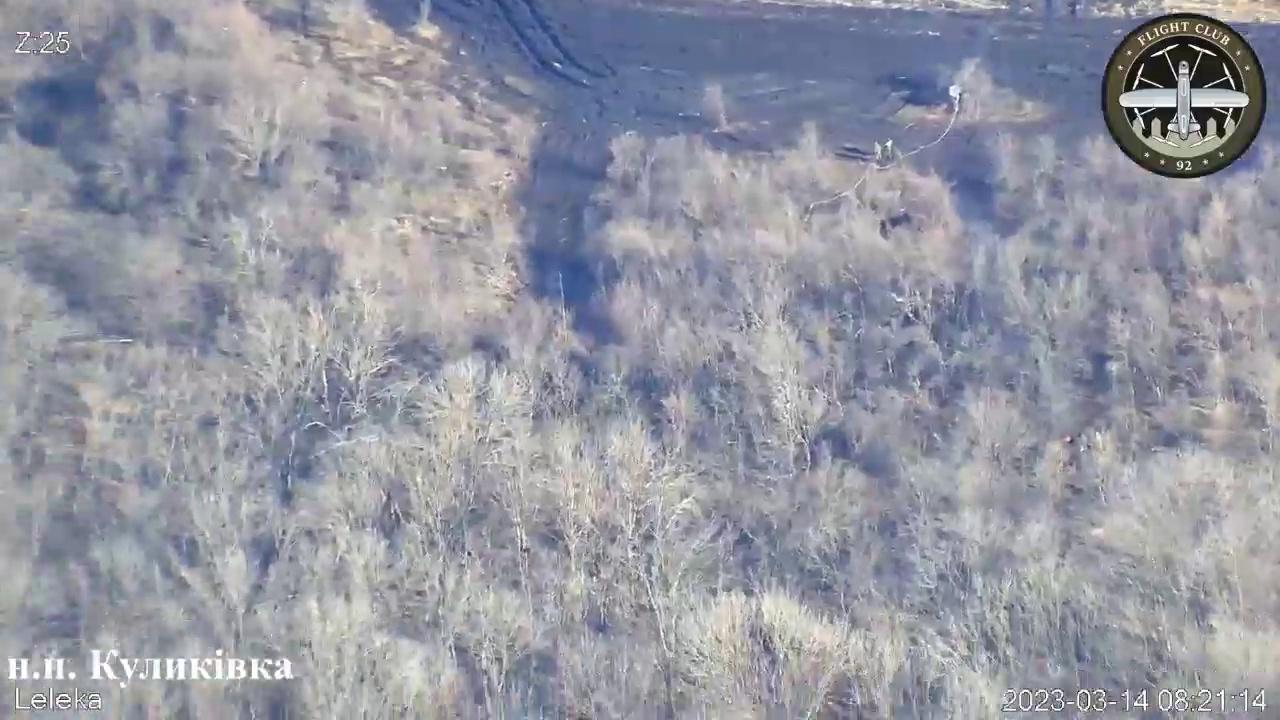person: (883, 135, 894, 163), (873, 139, 882, 169)
